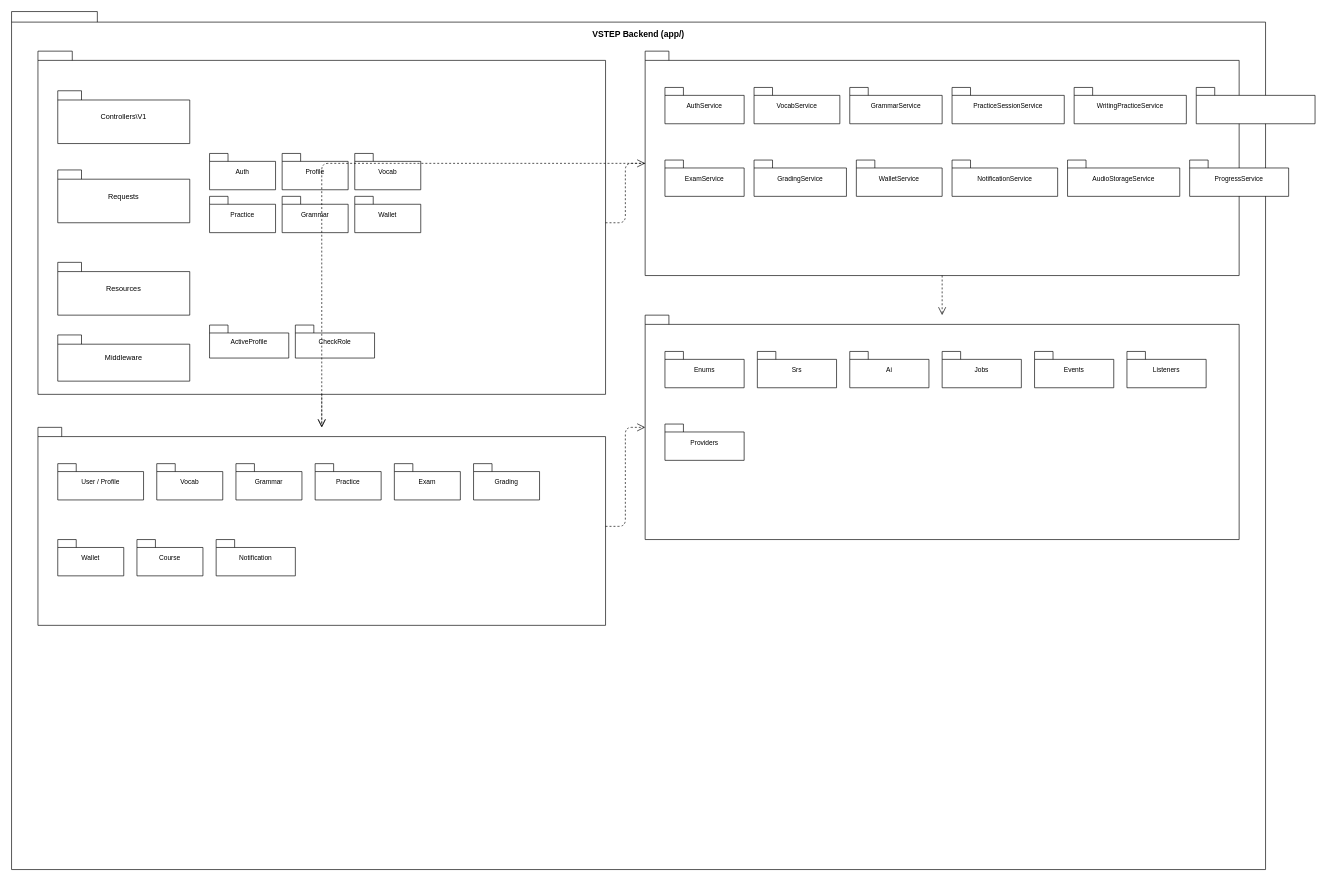
The diagram is 1327 pixels wide and 881 high, and some of its shapes have lost their labels. Here are the shapes that lost their labels. From the top down, the box of each, then its label:
(1196, 87, 1315, 124): SpeakingPracticeService
(644, 50, 1239, 276): Services
(37, 50, 606, 394): Http
(644, 314, 1239, 540): Foundation
(37, 427, 606, 625): Models
